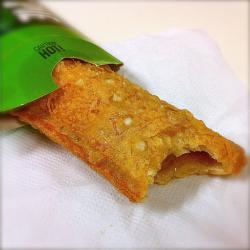apple_pie: (4, 31, 241, 217)
